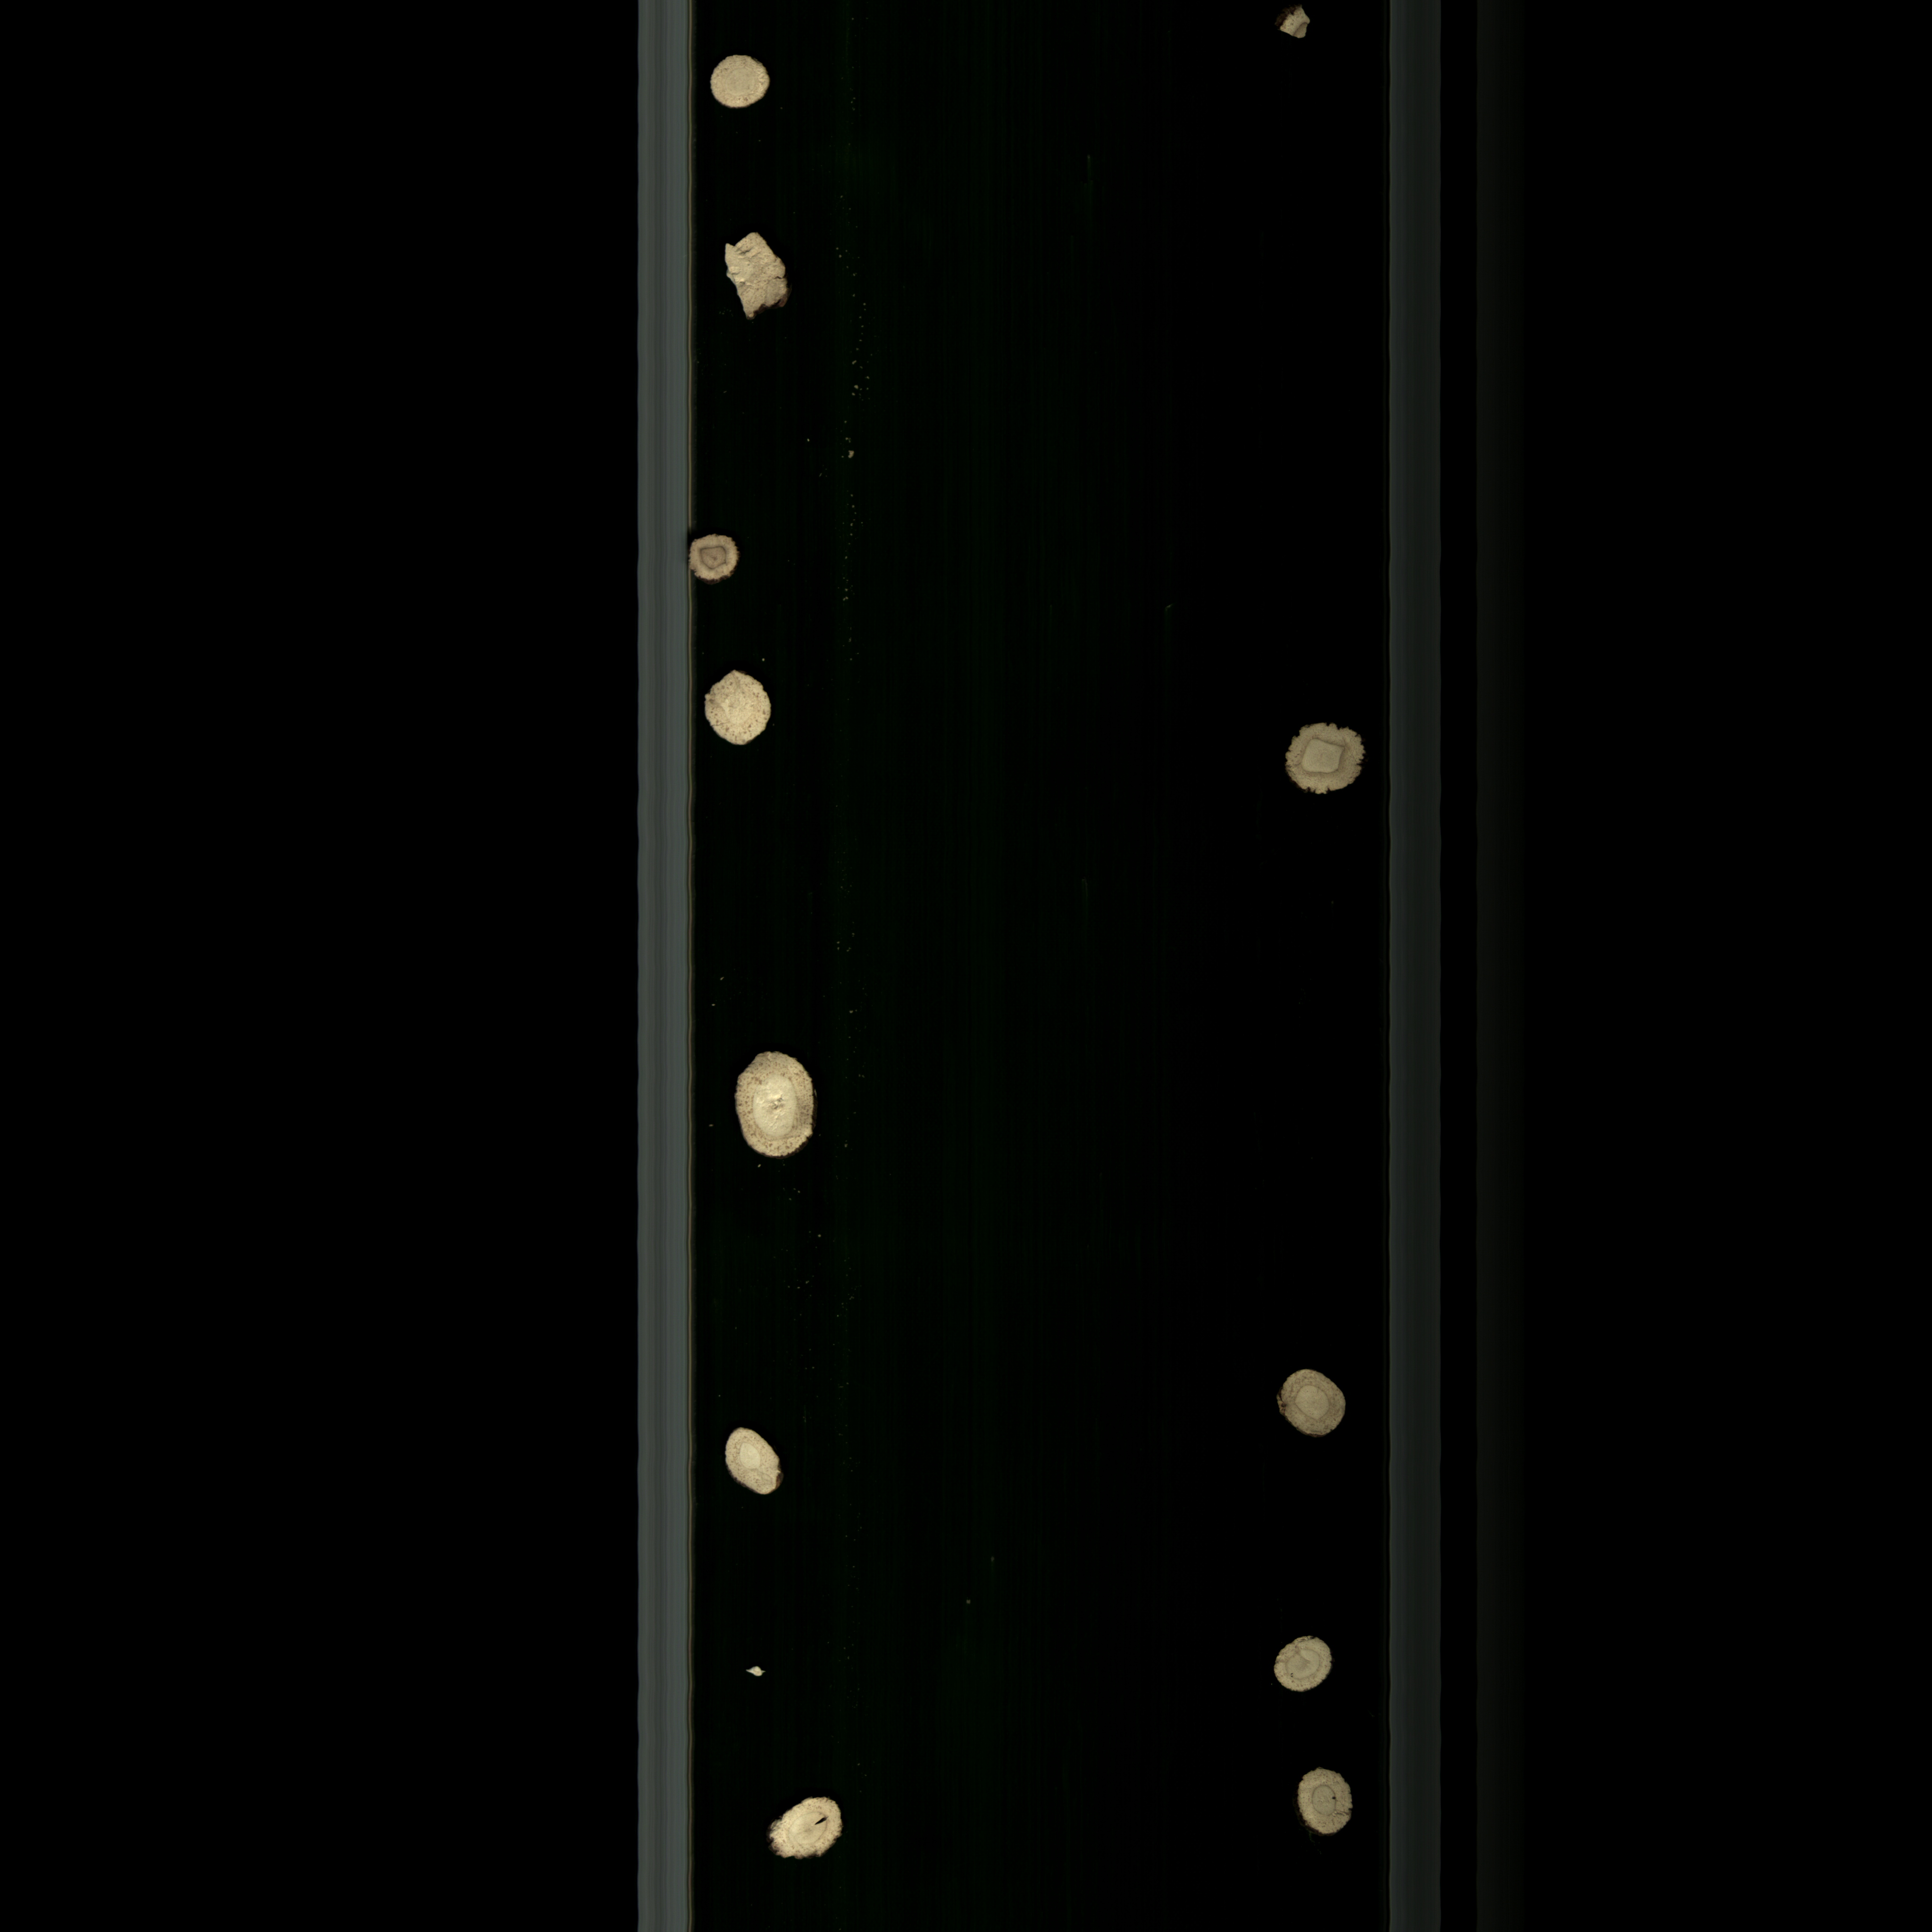distortion: (708, 223, 812, 329), (704, 1417, 801, 1506)
dreg: (1267, 4, 1325, 51), (738, 1661, 786, 1688)
hole: (763, 1789, 862, 1874), (1292, 1760, 1359, 1842)
moldy: (1274, 709, 1378, 807), (1261, 1364, 1352, 1445), (685, 527, 754, 596)
